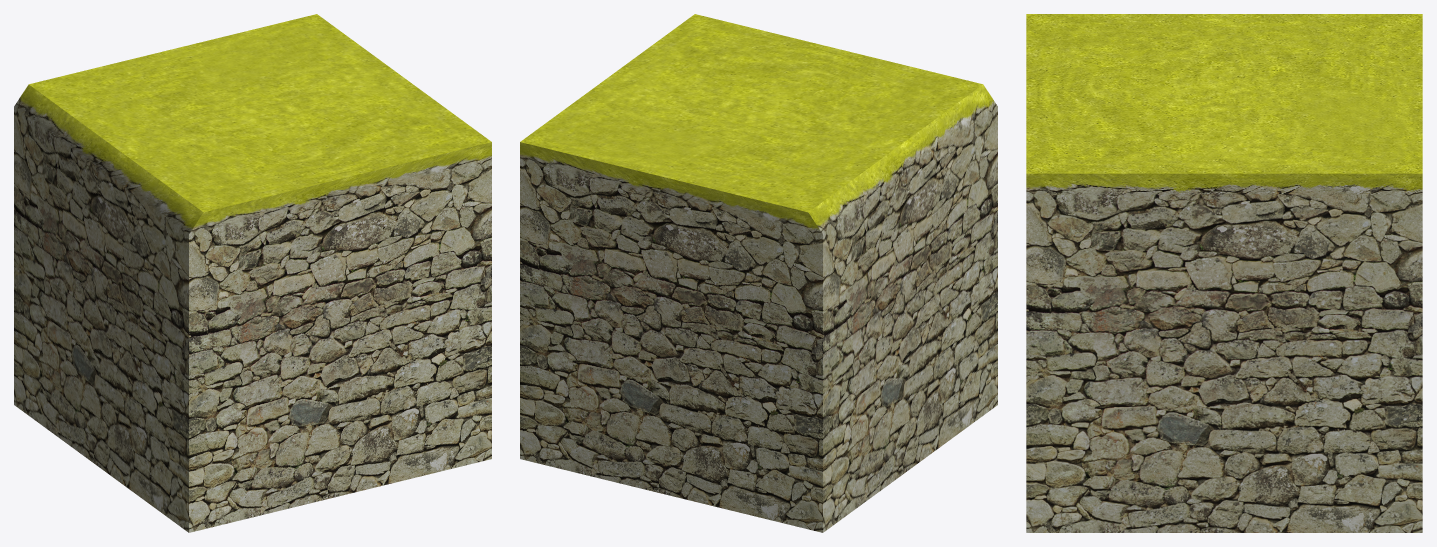
File: Big_Rock_Wall_Extend_01.fbx
The picture shows the model from 3 angles, left to right: view 1: azimuth 30°, elevation 25°; view 2: azimuth 150°, elevation 25°; view 3: azimuth 270°, elevation 25°; orthographic projection. The views are drawn at different scales.
Visible parts, largest first — view 1: bigCubeReference_polySurface4; view 2: bigCubeReference_polySurface4; view 3: bigCubeReference_polySurface4.
Boxes of the visible parts, x1=… form: bigCubeReference_polySurface4: x1=14, y1=14, x2=491, y2=532; bigCubeReference_polySurface4: x1=520, y1=14, x2=997, y2=532; bigCubeReference_polySurface4: x1=1026, y1=14, x2=1422, y2=532.
Bounding box in the file's own units: 9.77 × 9.77 × 9.77.
Materials: 1 (1 with a texture image).
